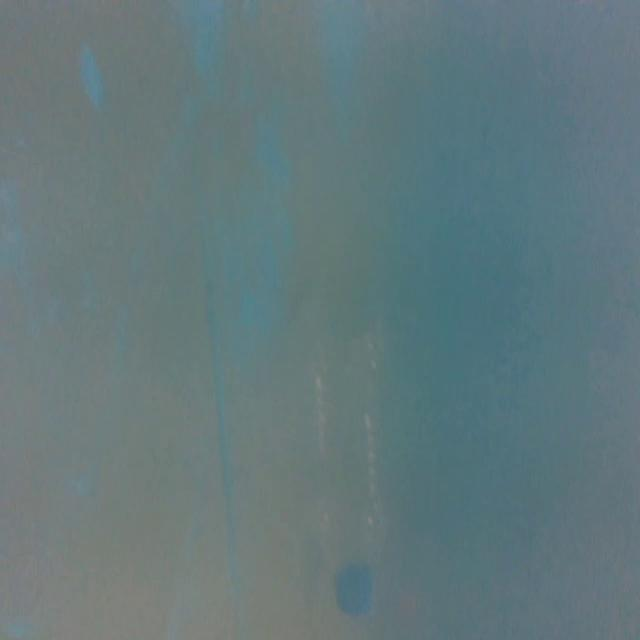plastic bottle: (303, 321, 402, 622)
